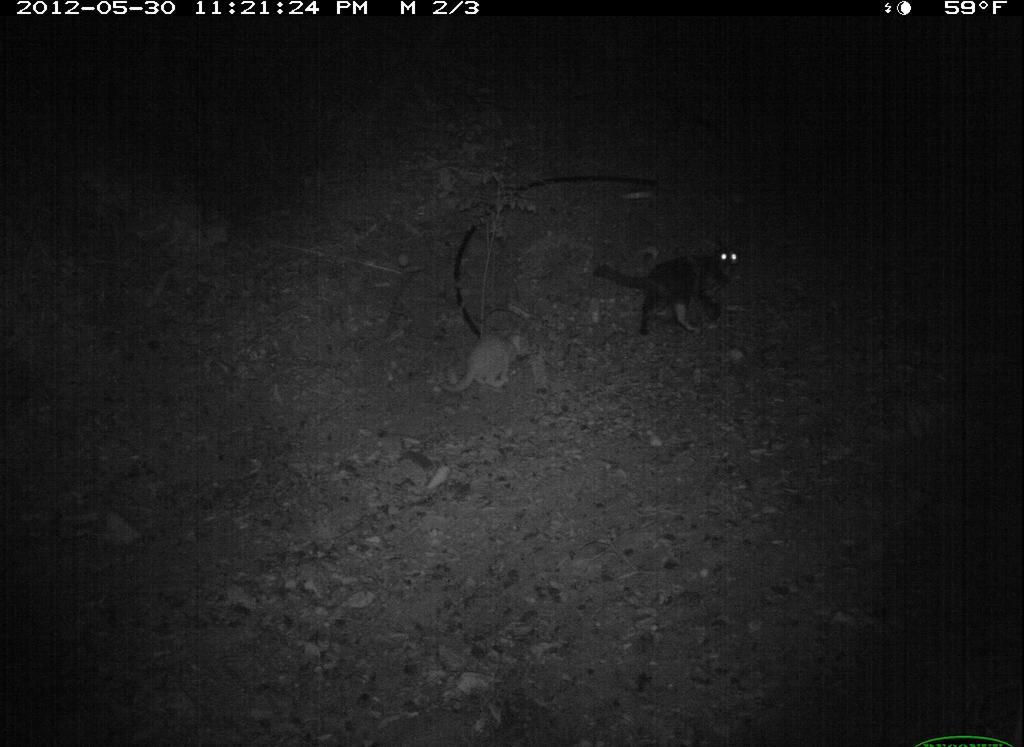cat: (589, 226, 754, 347), (433, 312, 546, 417)
